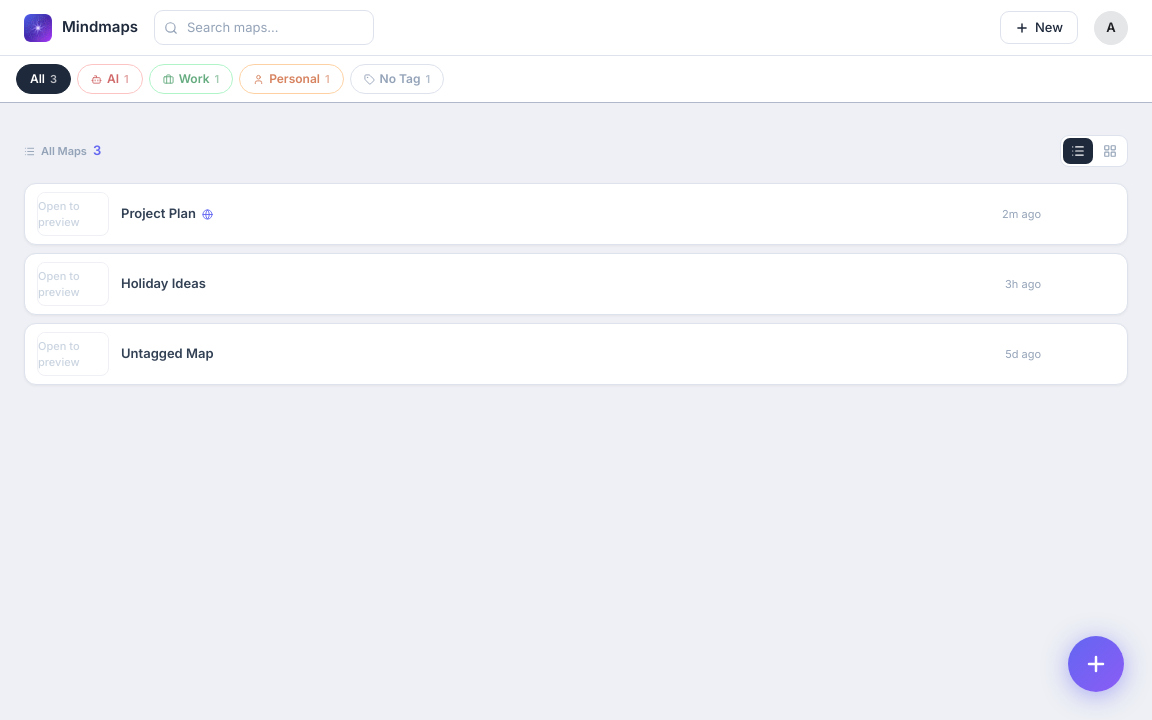
Scenario: HomePage — delete & tag editing › does not delete when the confirm dialog is cancelled
Hover over the button "Open to preview Project Plan 2m ago": (73, 214) 24,183 -> 1128,245
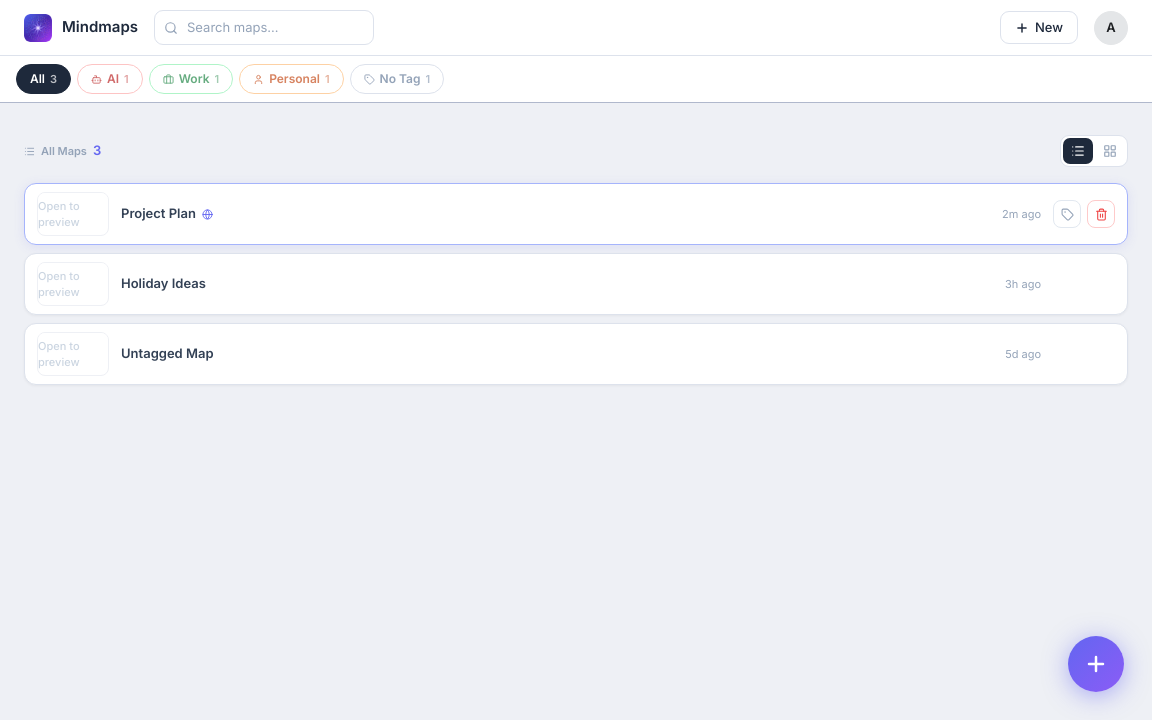
Click the button named "Delete Project Plan": (1101, 214) 1087,200 -> 1115,228
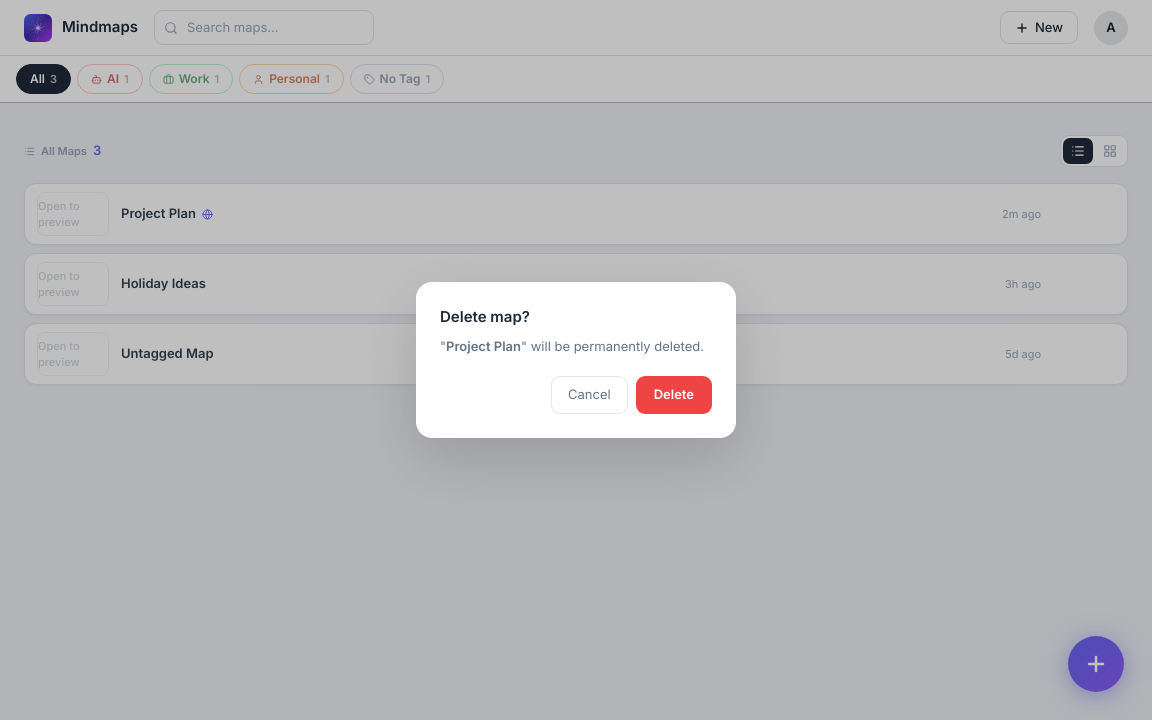
Click the button "Cancel": (589, 395) 551,376 -> 628,414
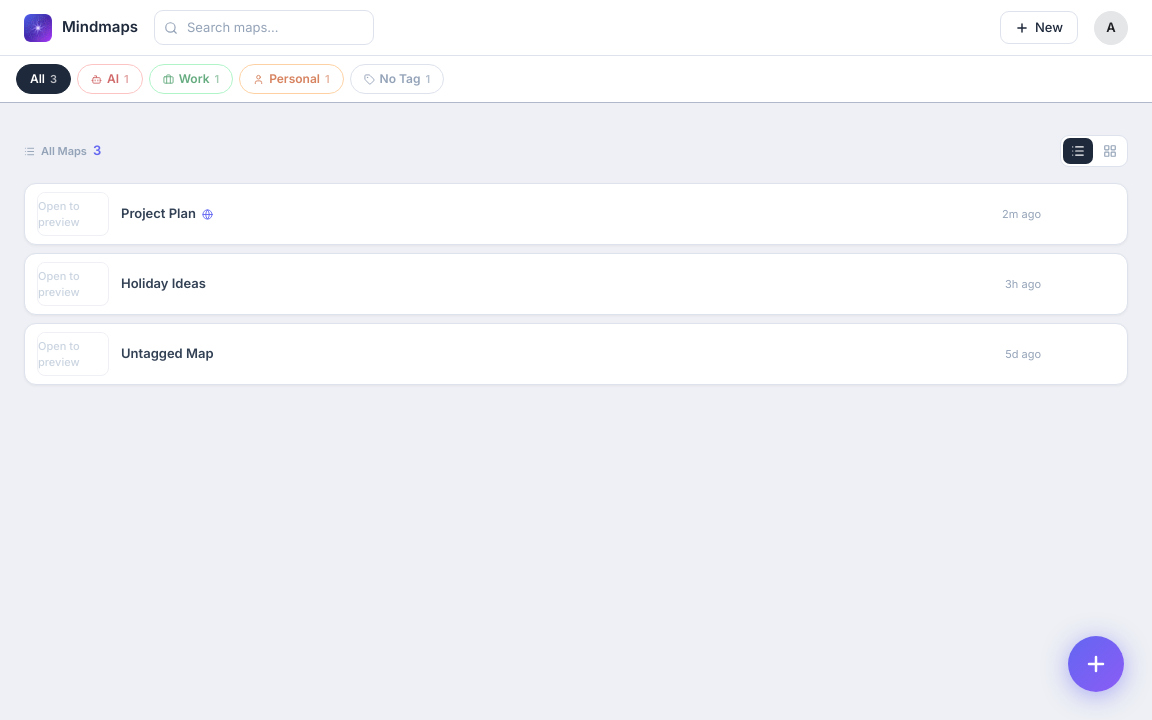
Check: the heading "Delete map?" is gone
